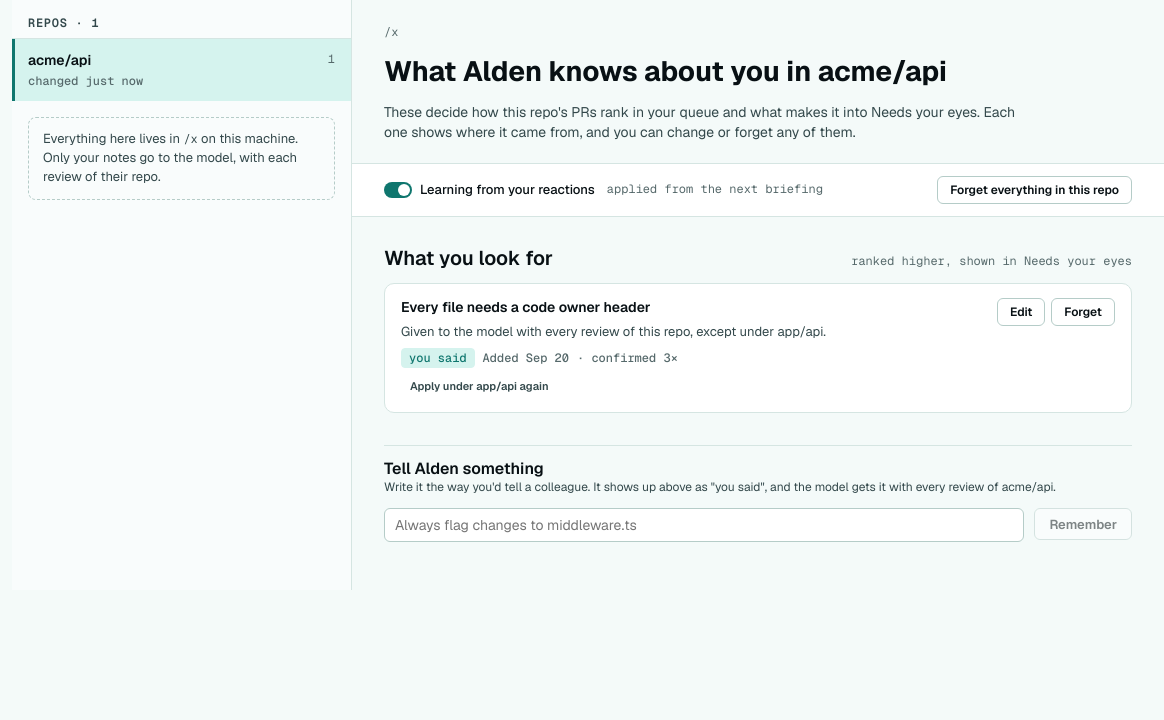
Test case: the Memory view and a note's reactions › shows how often a note was confirmed and applies it under a folder again
Expected: the text "· confirmed 3×" is shown, [577,350,678,366]
Click the button with aria-label "Apply this note under app/api again" at {"x": 479, "y": 386}, box [401,374,558,398]
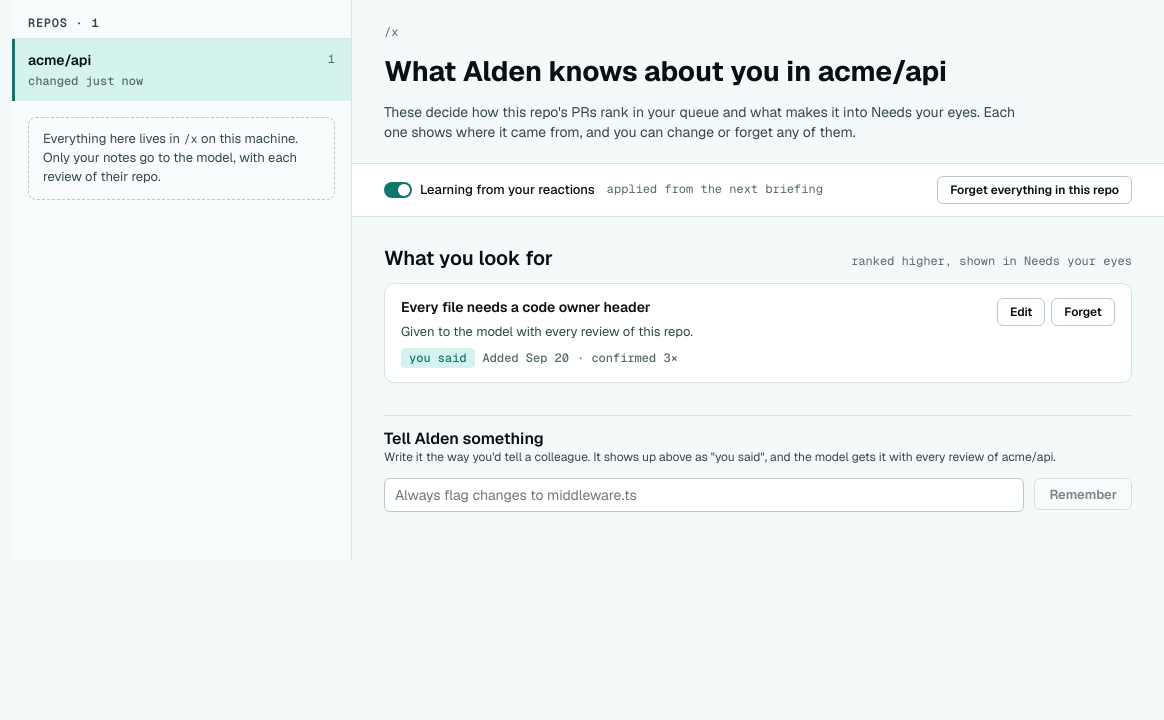
Expected: the button "under app/api again" is gone
